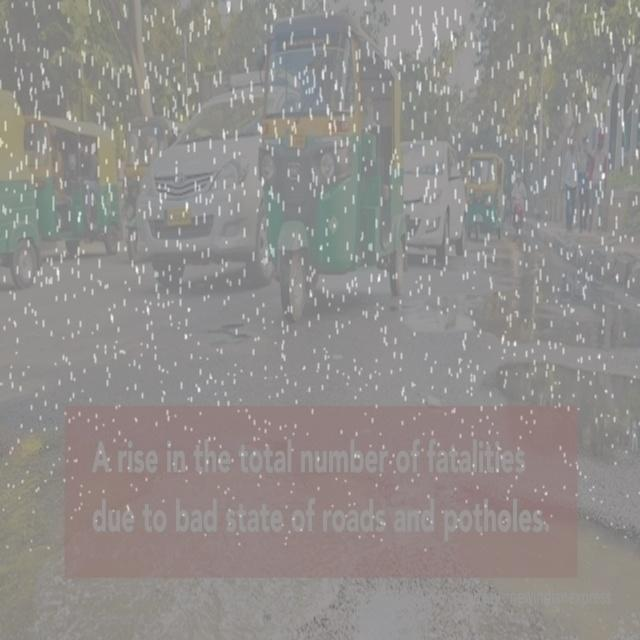Pothole: (0, 441, 211, 640), (493, 498, 639, 640), (495, 358, 640, 472), (403, 287, 637, 349), (200, 311, 254, 351)
